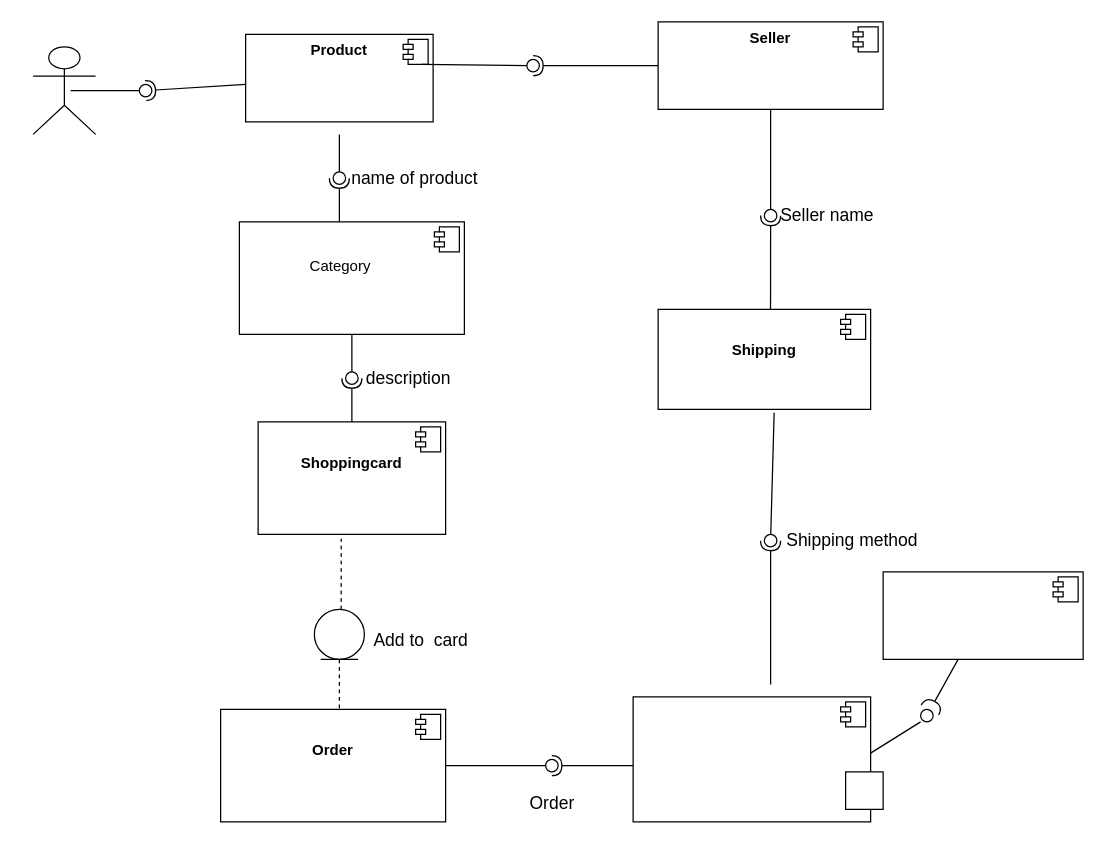
This 1105x844 diagram has some shape labels left out. The box of each missing label's shape, as (x1, y1, x2, y2) in pixels:
Costumer: (32, 46, 96, 134)
Payment: (882, 571, 1083, 659)
Tr ansaction: (632, 696, 871, 822)
